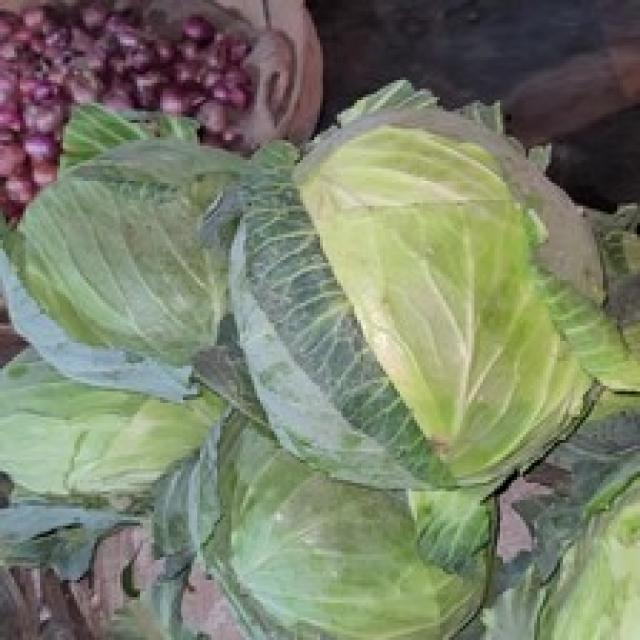Cabbage: (0, 77, 637, 637)
